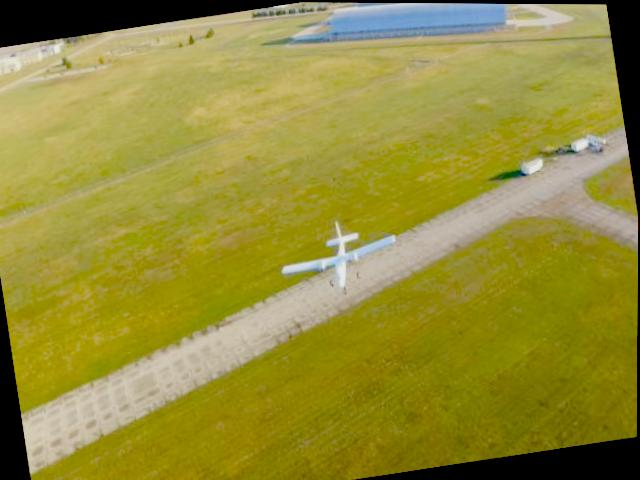uav: (273, 211, 404, 298)
